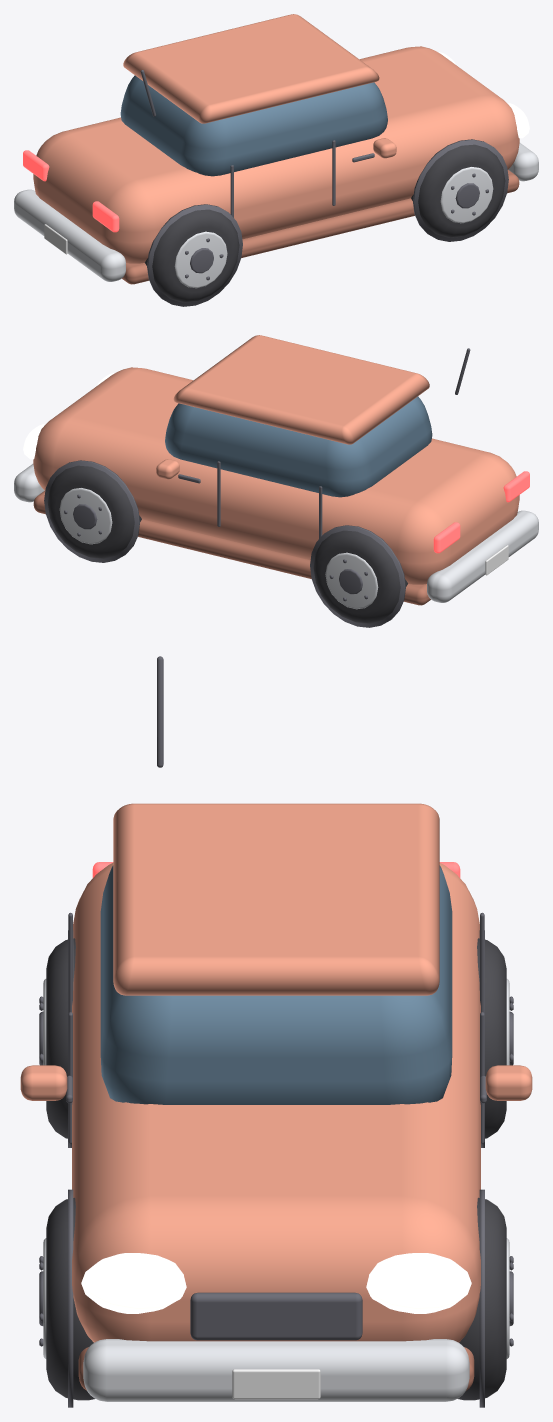
Rendered from vehicle_car.glb.
3 renders of one model, top to bottom at view 1: azimuth 30°, elevation 25°; view 2: azimuth 150°, elevation 25°; view 3: azimuth 270°, elevation 25°, orthographic. The views are drawn at different scales.
Parts seen in each view (by area): view 1: vehicle_car; view 2: vehicle_car; view 3: vehicle_car.
Part boxes in pixels (x1,y1,x2,y2): vehicle_car: [14, 14, 538, 306]; vehicle_car: [14, 335, 538, 627]; vehicle_car: [20, 656, 532, 1407].
Size of the model in its own units: 4.4 by 2.14 by 2.2.
